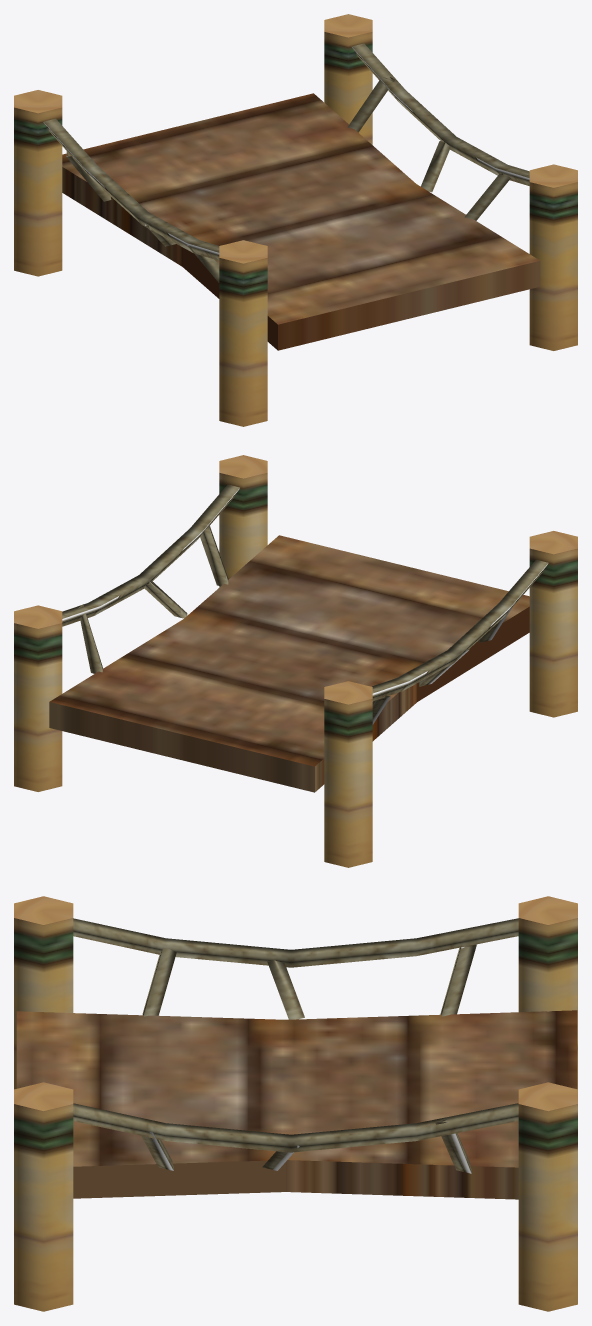
The model's file is jun_tile_straight.obj.
3 views of the same model, one above another, from view 1: azimuth 30°, elevation 25°; view 2: azimuth 150°, elevation 25°; view 3: azimuth 270°, elevation 25° (orthographic). The views are drawn at different scales.
Visible parts, largest first — view 1: tile_straight11; view 2: tile_straight11; view 3: tile_straight11.
Boxes of the visible parts, bbox=[...] form: tile_straight11: bbox=[14, 14, 577, 426]; tile_straight11: bbox=[14, 455, 577, 867]; tile_straight11: bbox=[14, 896, 577, 1311].
Size of the model in its own units: 0.9021 by 0.3923 by 0.9998.
1 material, 1 textured.
